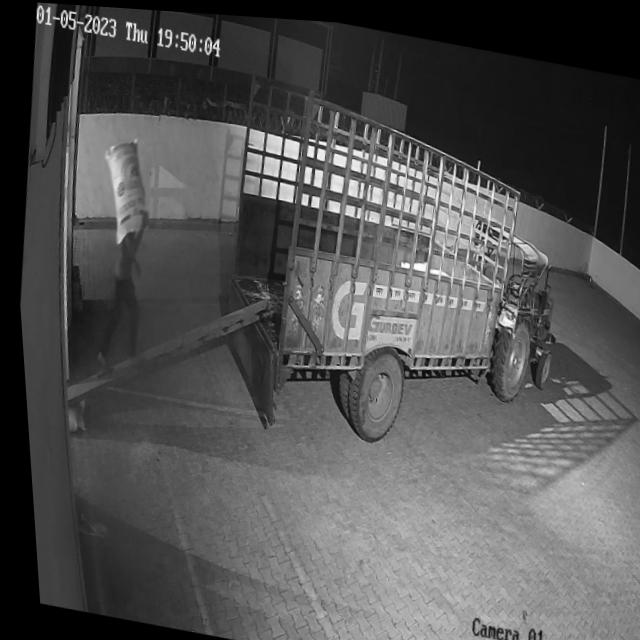sack: (91, 129, 153, 246)
